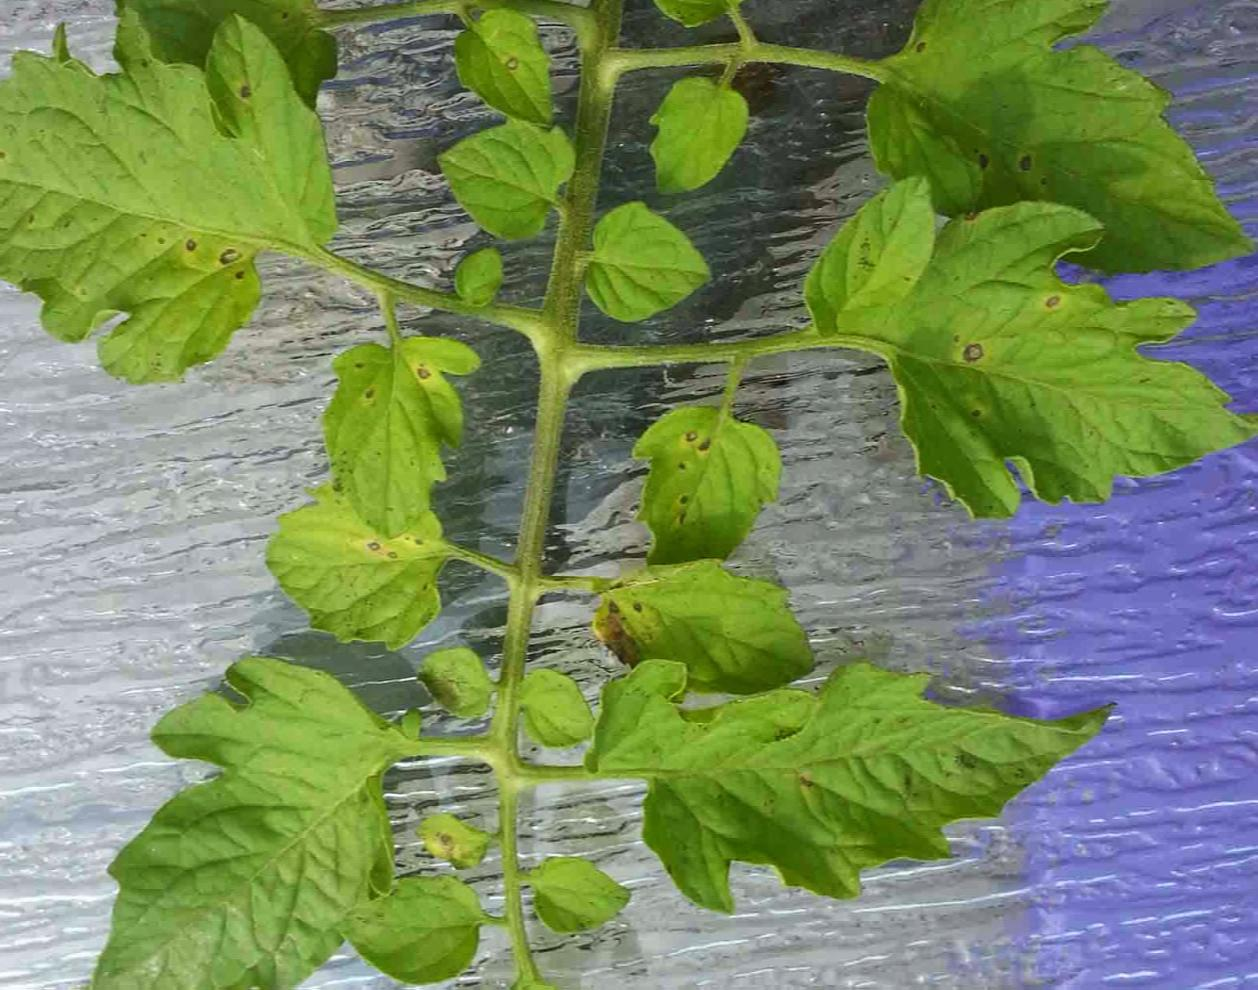Tomato Septoria leaf spot: (801, 159, 1253, 535), (0, 0, 328, 376), (267, 305, 490, 549), (262, 467, 470, 651), (614, 372, 788, 587), (570, 566, 819, 706)
